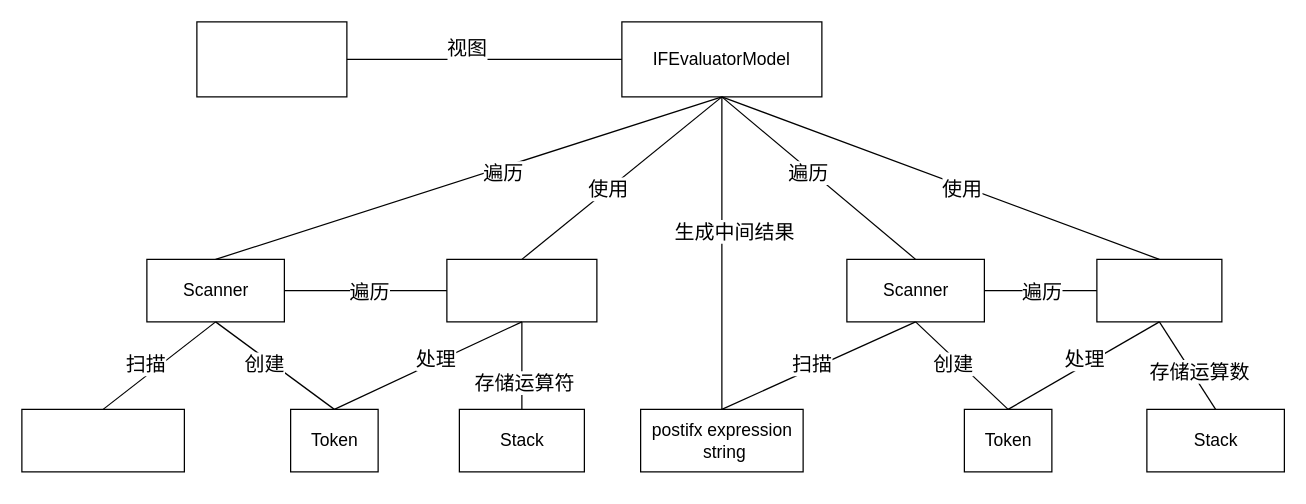
The diagram is 1306 pixels wide and 504 high, and some of its shapes have lost their labels. The box of each missing label's shape, as (x1, y1, x2, y2) in pixels:
IFEvaluatorView: (196, 21, 347, 97)
IFToPFConverter: (446, 258, 597, 322)
infix expression string: (21, 408, 184, 472)
PFEvaluator: (1096, 258, 1222, 322)
